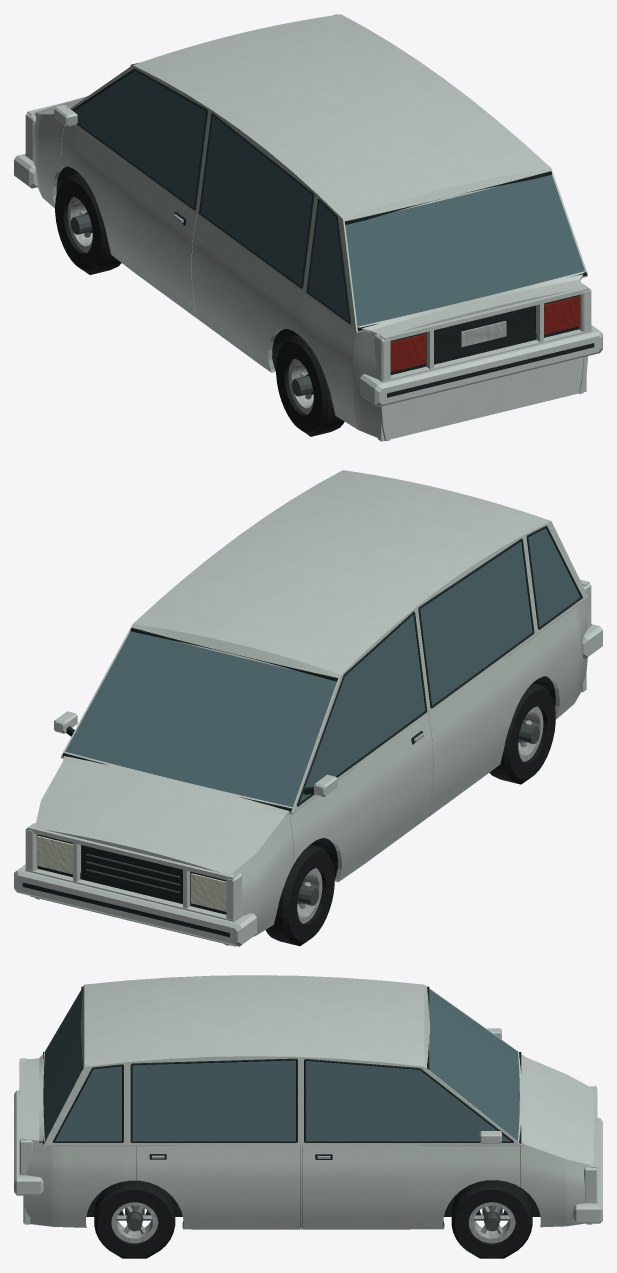
3 renders of one model, top to bottom at view 1: azimuth 30°, elevation 25°; view 2: azimuth 150°, elevation 25°; view 3: azimuth 270°, elevation 25°, orthographic. The views are drawn at different scales.
Parts seen in each view (by area): view 1: B028-10_roof_paint, B028-10_glazing_glass.001, B028-10_body_shell_paint.001, B028-10_body_shell_paint, B028-10_door_leaf_paint_front_door-1, B028-10_glazing_glass_rear_door-1, B028-10_glazing_glass_front_door-1, B028-10_bumper_paint, B028-10_wheel_rubber_P-0.7750_-1.4100_0.3300, B028-10_wheel_rubber_P-0.7750_1.4900_0.3300, B028-10_body_shell_dark, B028-10_glazing_glass (+9 smaller); view 2: B028-10_roof_paint, B028-10_glazing_glass.001, B028-10_body_shell_paint.001, B028-10_body_shell_paint, B028-10_door_leaf_paint_front_door-1, B028-10_glazing_glass_rear_door-1, B028-10_glazing_glass_front_door-1, B028-10_bumper_paint, B028-10_wheel_rubber_P-0.7750_1.4900_0.3300, B028-10_body_shell_dark, B028-10_wheel_rubber_P-0.7750_-1.4100_0.3300, B028-10_glazing_glass (+9 smaller); view 3: B028-10_roof_paint, B028-10_door_leaf_paint_front_door1, B028-10_body_shell_paint.001, B028-10_glazing_glass_right_sliding_passenger, B028-10_door_leaf_paint_right_sliding_passenger, B028-10_glazing_glass_front_door1, B028-10_glazing_glass.001, B028-10_body_shell_paint, B028-10_wheel_rubber_P0.7750_1.4900_0.3300, B028-10_wheel_rubber_P0.7750_-1.4100_0.3300, B028-10_glazing_glass, B028-10_bumper_paint (+7 smaller).
Boxes of the visible parts, x1,y1,x2,y2 form: B028-10_roof_paint: [133, 14, 550, 218]; B028-10_glazing_glass.001: [345, 175, 585, 327]; B028-10_body_shell_paint.001: [25, 65, 591, 441]; B028-10_body_shell_paint: [32, 112, 588, 441]; B028-10_door_leaf_paint_front_door-1: [61, 79, 197, 318]; B028-10_glazing_glass_rear_door-1: [201, 116, 312, 285]; B028-10_glazing_glass_front_door-1: [76, 71, 206, 207]; B028-10_bumper_paint: [14, 154, 602, 407]; B028-10_wheel_rubber_P-0.7750_-1.4100_0.3300: [276, 335, 344, 436]; B028-10_wheel_rubber_P-0.7750_1.4900_0.3300: [55, 173, 121, 274]; B028-10_body_shell_dark: [390, 305, 579, 374]; B028-10_glazing_glass: [308, 202, 349, 320]; B028-10_roof_paint: [133, 470, 550, 674]; B028-10_glazing_glass.001: [64, 631, 336, 808]; B028-10_body_shell_paint.001: [25, 521, 591, 946]; B028-10_body_shell_paint: [35, 597, 587, 945]; B028-10_door_leaf_paint_front_door-1: [289, 626, 432, 882]; B028-10_glazing_glass_rear_door-1: [420, 541, 532, 705]; B028-10_glazing_glass_front_door-1: [299, 614, 425, 802]; B028-10_bumper_paint: [14, 624, 602, 946]; B028-10_wheel_rubber_P-0.7750_1.4900_0.3300: [265, 844, 334, 946]; B028-10_body_shell_dark: [37, 845, 226, 914]; B028-10_wheel_rubber_P-0.7750_-1.4100_0.3300: [489, 683, 555, 784]; B028-10_glazing_glass: [528, 528, 580, 626]; B028-10_roof_paint: [84, 975, 424, 1066]; B028-10_door_leaf_paint_front_door1: [302, 1059, 519, 1229]; B028-10_body_shell_paint.001: [19, 985, 597, 1224]; B028-10_glazing_glass_right_sliding_passenger: [132, 1060, 295, 1141]; B028-10_door_leaf_paint_right_sliding_passenger: [136, 1145, 300, 1229]; B028-10_glazing_glass_front_door1: [306, 1060, 510, 1141]; B028-10_glazing_glass.001: [43, 989, 519, 1141]; B028-10_body_shell_paint: [23, 1139, 591, 1229]; B028-10_wheel_rubber_P0.7750_1.4900_0.3300: [451, 1180, 532, 1258]; B028-10_wheel_rubber_P0.7750_-1.4100_0.3300: [94, 1179, 175, 1258]; B028-10_glazing_glass: [55, 1066, 121, 1141]; B028-10_bumper_paint: [14, 1090, 602, 1223].
Bounding box in the file's own units: 2.06 × 1.82 × 4.78.
Materials: 9 (9 with a texture image).
